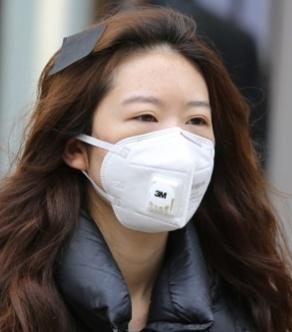OK: (93, 82, 217, 234)
